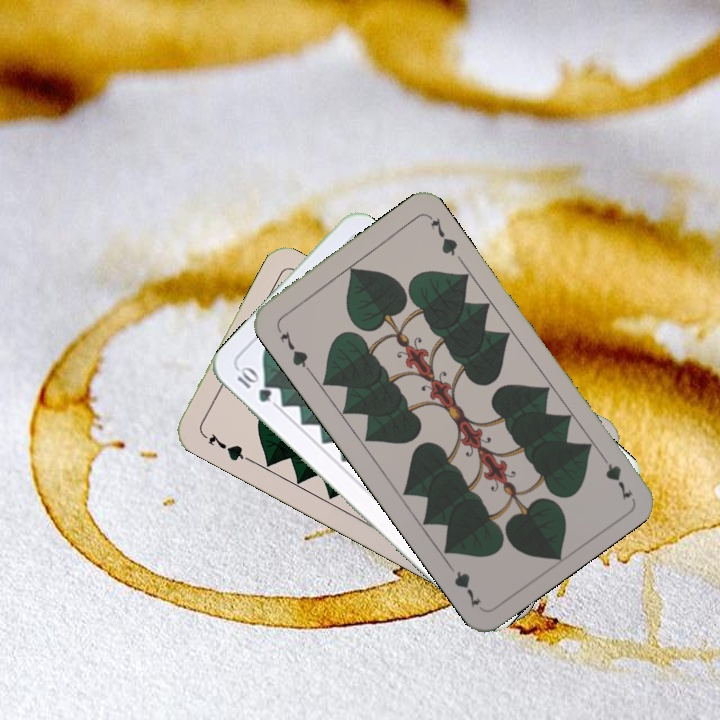G10: (233, 363, 275, 406)
G7: (595, 448, 636, 503), (273, 323, 313, 374), (198, 429, 253, 464)
